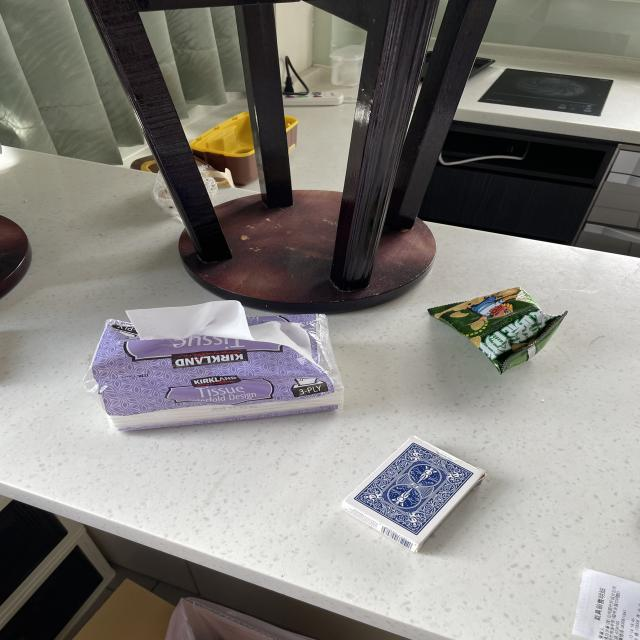tissue: (85, 298, 344, 433)
